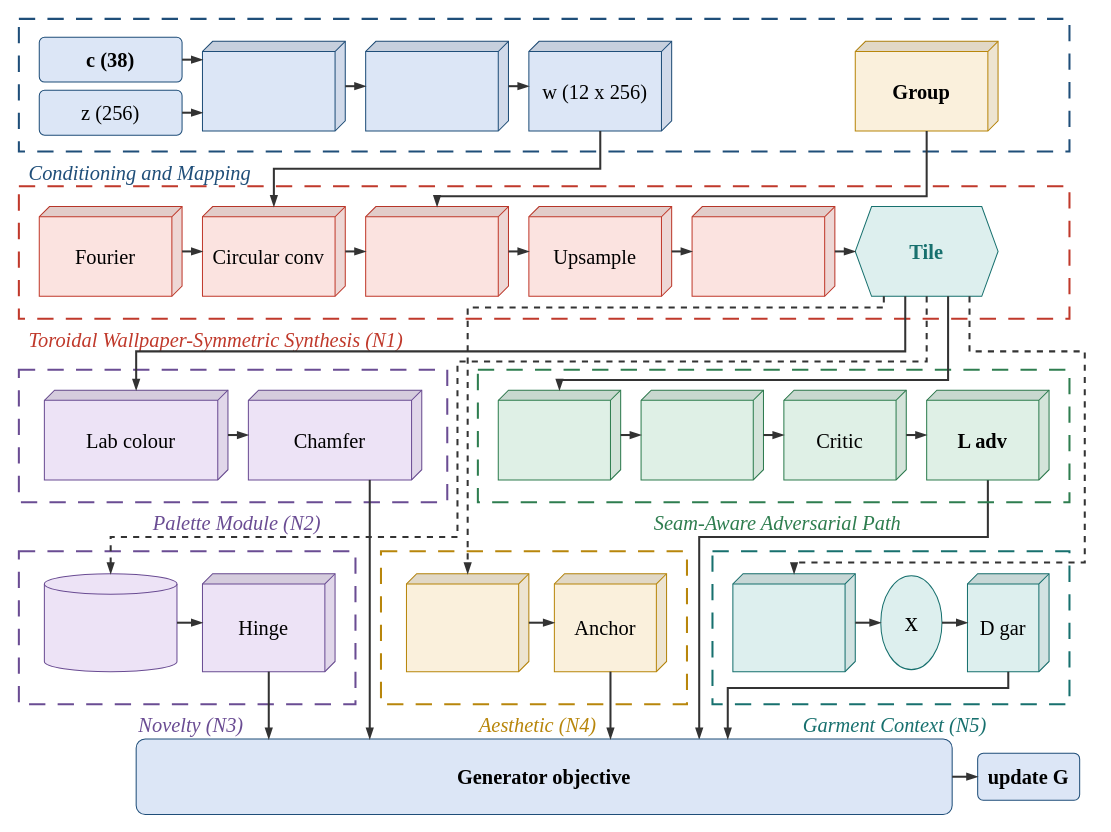
This 1111x832 diagram has some shape labels left out. The shapes that lost their labels are listed below. From the top down, each one's centre as x and y in pixels, then its label:
At point 273,85: "Embed".
At point 436,85: "Mapping".
At point 436,251: "Symmetrise".
At point 763,251: "ToRGB".
At point 559,434: "Torus roll".
At point 701,434: "Augment".
At point 110,622: "CLIP".
At point 467,622: "Reward".
At point 793,622: "Drape".
